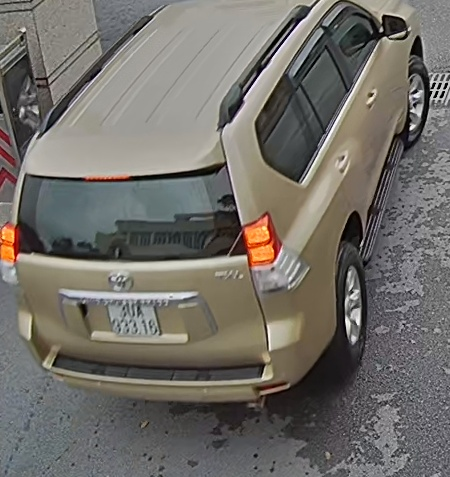vehicle plate: (104, 299, 164, 342)
